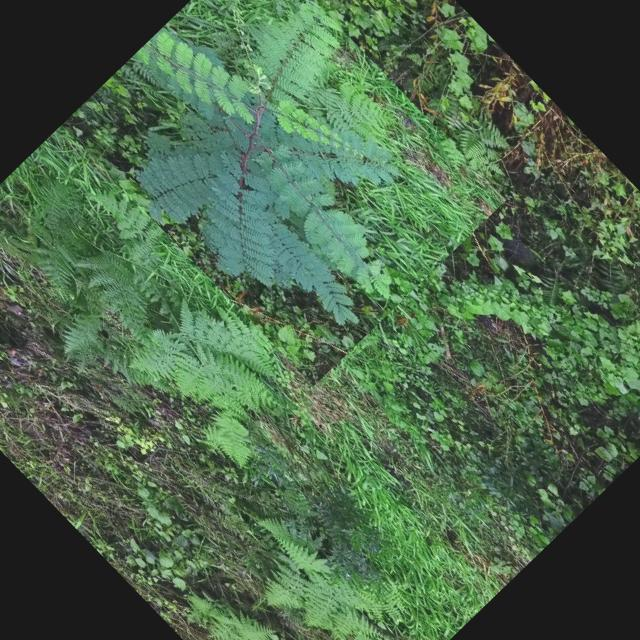Mysore-Thorn-Weed: (61, 0, 506, 385)
